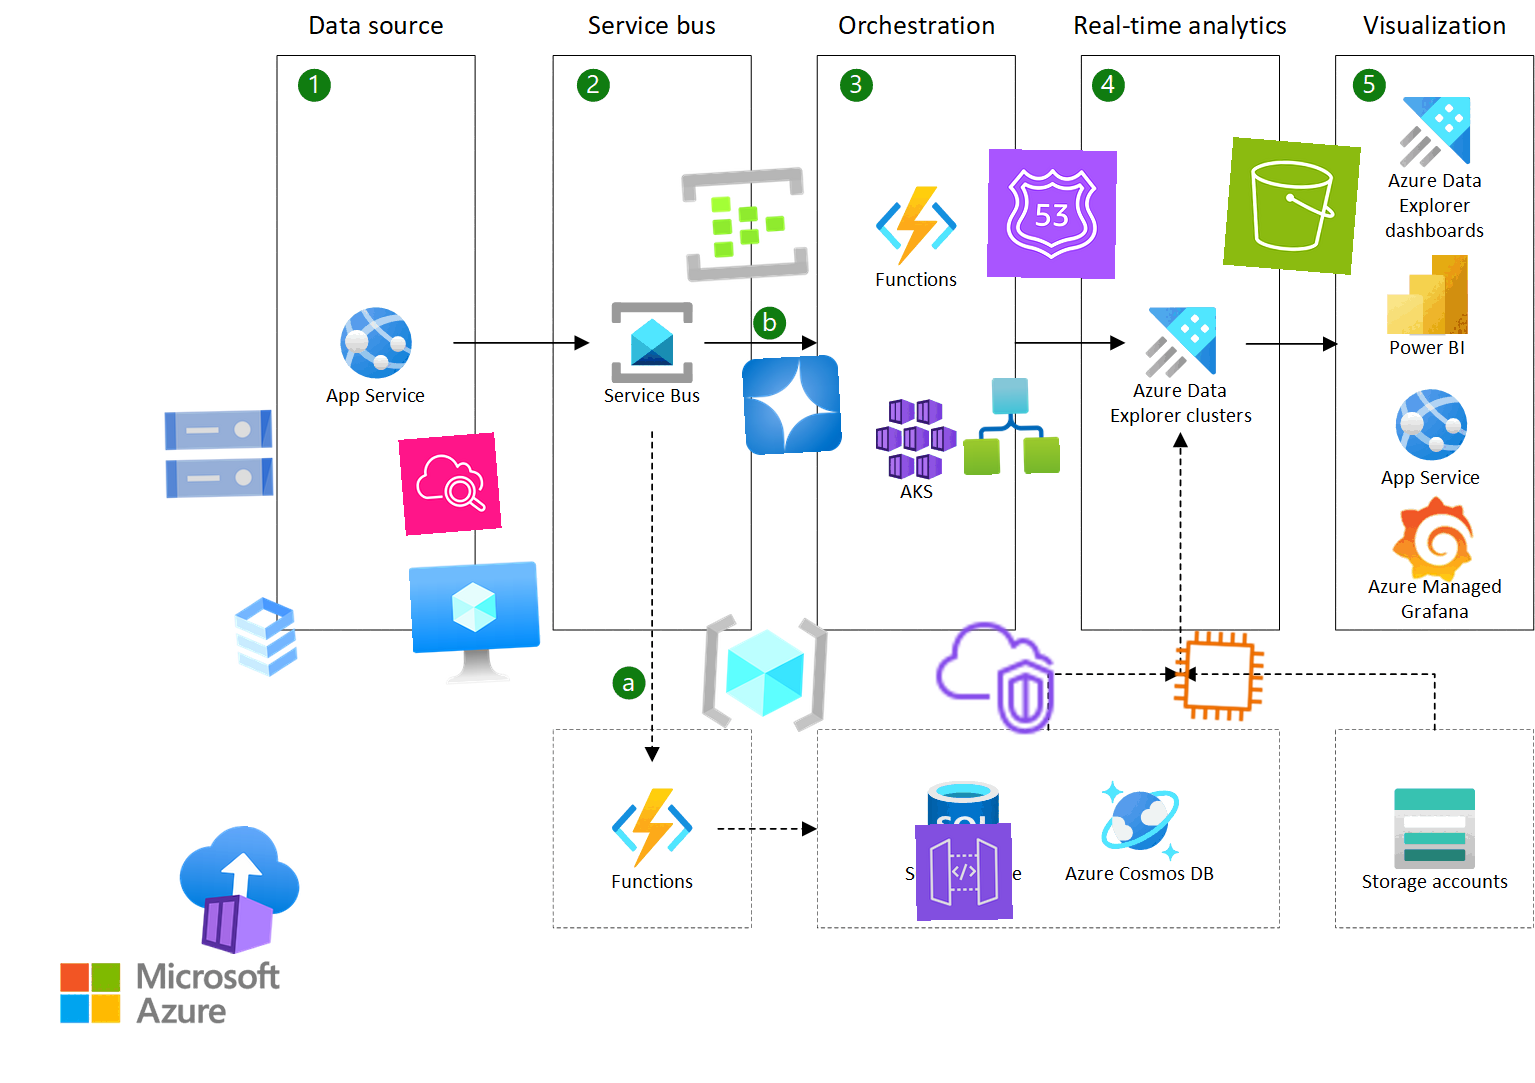aws_amazon_api_gateway: (915, 823, 1014, 921)
aws_amazon_cloudwatch: (398, 432, 502, 536)
aws_amazon_route_53: (985, 148, 1118, 280)
aws_amazon_simple_storage_service: (1223, 137, 1362, 275)
aws_ec2_instance: (1168, 625, 1270, 727)
aws_vpc_virtual_private_cloud_vpc: (930, 613, 1060, 743)
azure_container_instances: (170, 820, 308, 959)
azure_event_hubs: (677, 156, 813, 292)
azure_logic_apps: (961, 376, 1060, 476)
azure_openai: (741, 354, 842, 456)
azure_resource_groups: (697, 605, 833, 741)
azure_virtual_machine: (408, 559, 544, 695)
gcp_cloud_sql: (214, 585, 318, 689)
gcp_cloud_storage: (153, 388, 285, 520)
